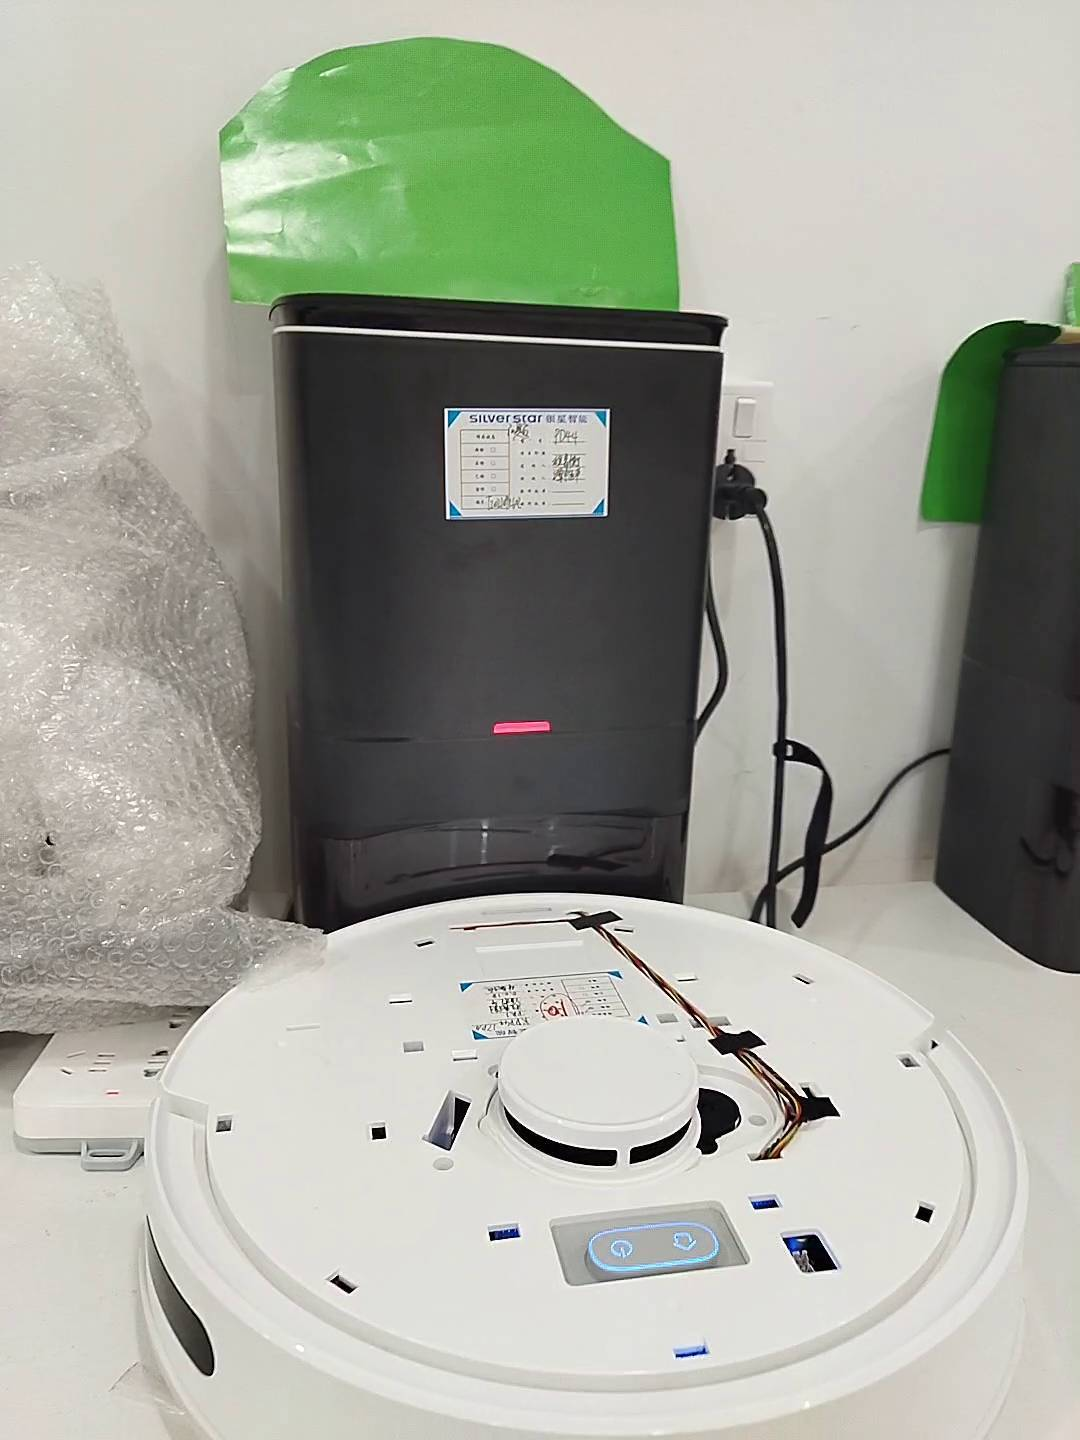dust collecting barrel: (265, 293, 731, 918)
